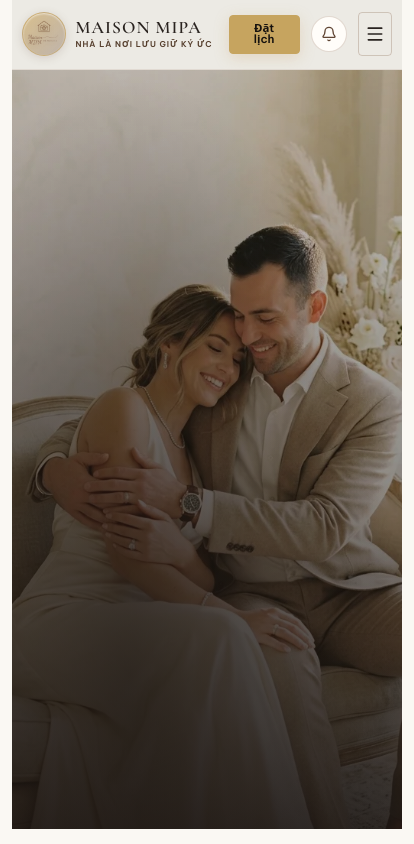
Visual Commerce Hardening & Data Integrity Pass › 11. Mobile manager: Studio Manager OS portal reachable in mobile menu
Click the button named "Mở menu điều hướng" at point(375, 34), box left=358, top=12, right=392, bottom=56
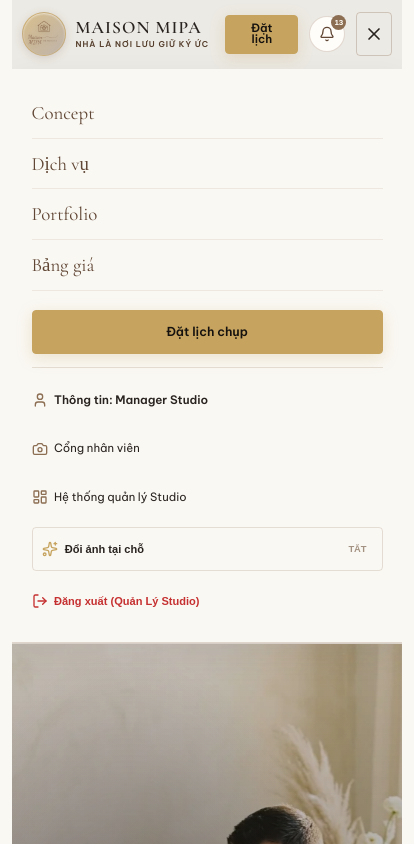
Now the link "Hệ thống quản lý Studio" is shown, box left=32, top=489, right=186, bottom=505
Now the link "Cổng nhân viên" is shown, box left=32, top=440, right=140, bottom=456
